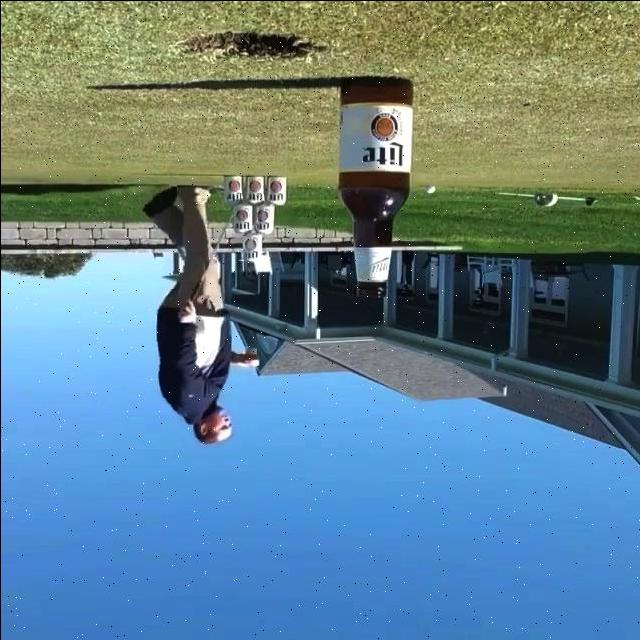golf ball: (423, 185, 435, 193)
golf club-handle: (176, 212, 233, 321)
